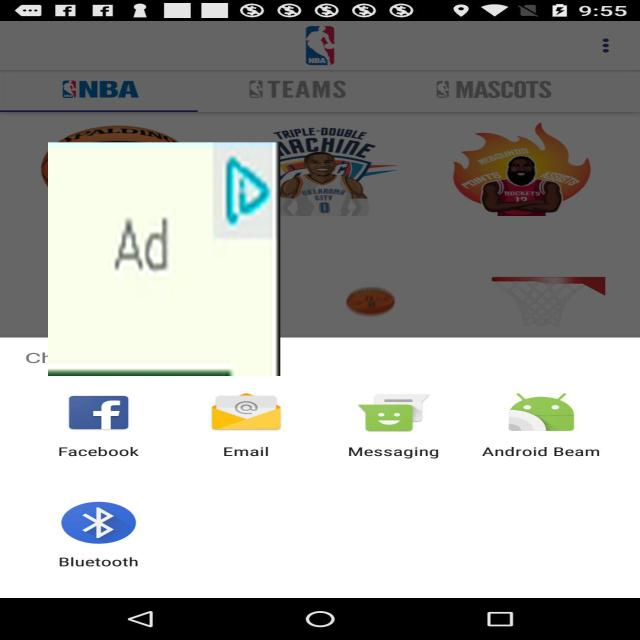sneaking: (48, 142, 280, 376)
